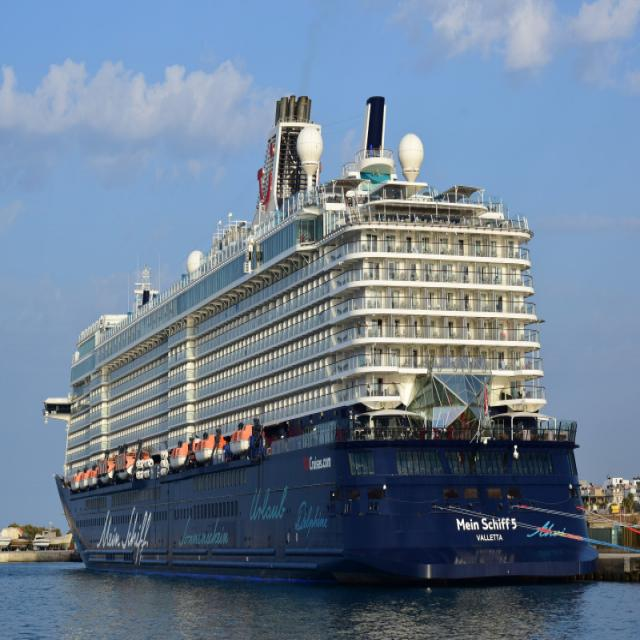cruises: (40, 85, 603, 594)
